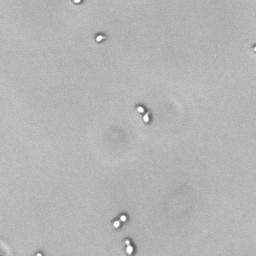budding: (134, 102, 153, 127), (110, 207, 129, 232), (120, 236, 138, 256), (92, 29, 110, 45), (67, 1, 87, 6)
